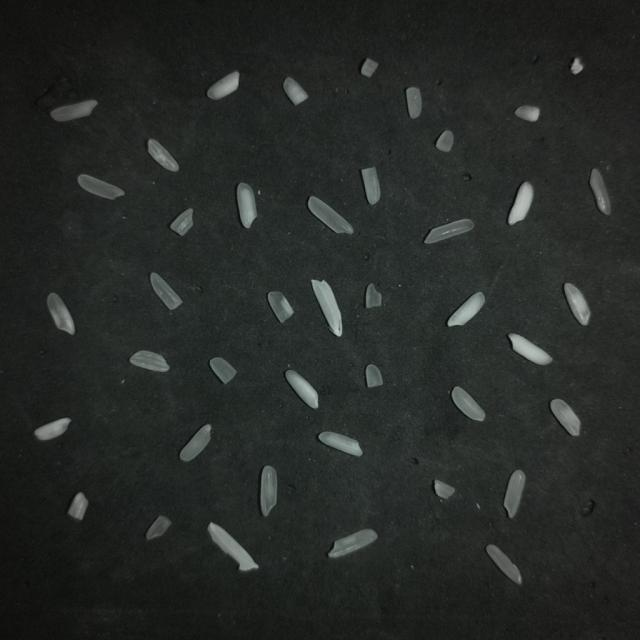broken: (486, 545, 521, 584), (550, 399, 580, 436), (260, 465, 277, 516), (130, 350, 169, 372), (268, 292, 293, 323), (361, 167, 380, 204), (210, 357, 236, 383), (146, 515, 171, 540), (170, 209, 193, 236), (68, 492, 88, 520), (406, 87, 422, 119), (435, 130, 454, 152), (366, 364, 383, 388), (434, 480, 455, 499), (365, 284, 381, 308), (514, 106, 539, 121), (361, 59, 378, 77), (570, 57, 583, 74)
chalky: (329, 529, 377, 558), (509, 334, 552, 365), (447, 292, 484, 326), (285, 370, 318, 408), (47, 294, 75, 334), (508, 182, 533, 225), (564, 284, 590, 325), (319, 432, 363, 456), (50, 100, 97, 121), (207, 71, 239, 99), (237, 183, 256, 228), (34, 418, 70, 440), (283, 77, 308, 105)
foreign: (208, 522, 258, 571), (312, 280, 340, 335)
whole: (308, 197, 353, 234), (424, 219, 474, 243), (150, 273, 182, 309), (77, 175, 124, 199), (180, 424, 210, 461), (453, 388, 485, 420), (504, 470, 525, 518), (147, 139, 178, 171), (590, 169, 611, 215)
